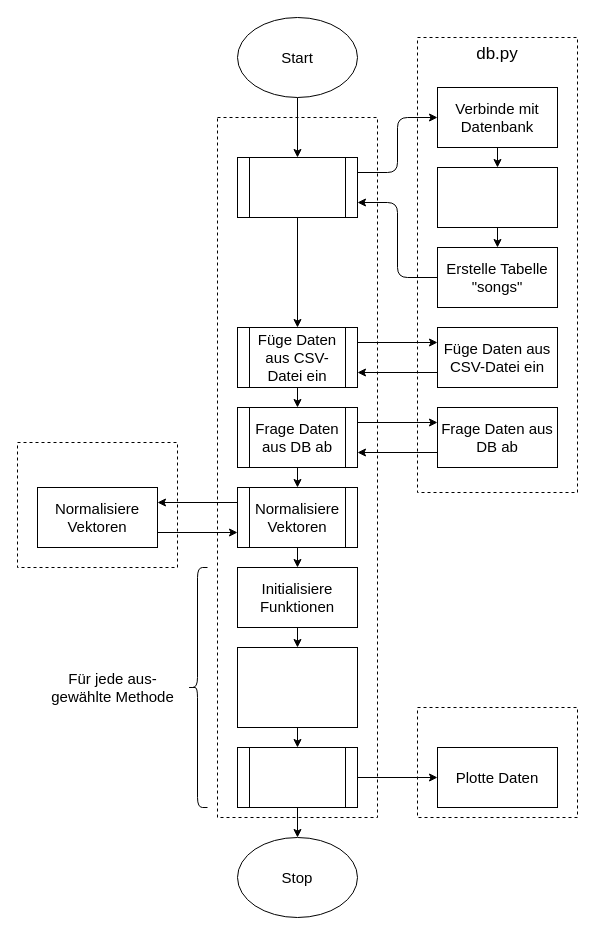
This 595x935 diagram has some shape labels left out. The shapes that lost their labels are listed below. From the top down, each one's box as (x1, y1, x2, y2) in pixels, then its label:
(236, 156, 358, 218): Stelle Verbindung mit DB her
(436, 166, 558, 228): Integriere Extension "pgvector"
(216, 116, 378, 818): main.py
(16, 442, 178, 568): utils.py
(236, 646, 358, 728): Führe Dimensions-reduktion durch
(236, 746, 358, 808): Plotte Ergebnisse
(416, 706, 578, 818): plot.py
